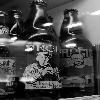beer: (23, 1, 63, 100)
